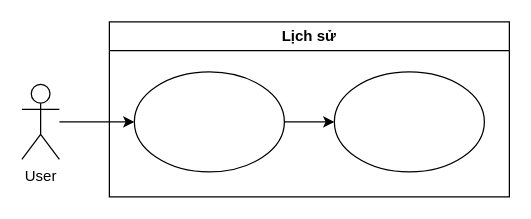
Some shapes in this 531 by 219 pixel diagram are drawn without their labels. The shapes that lost their labels are listed below. From the top down, each one's box as (x1, y1, x2, y2) in pixels, then its label:
(133, 71, 284, 172): Tìm kiếm người dùng
(333, 71, 484, 172): Lịch sử tắc động hệ thống
